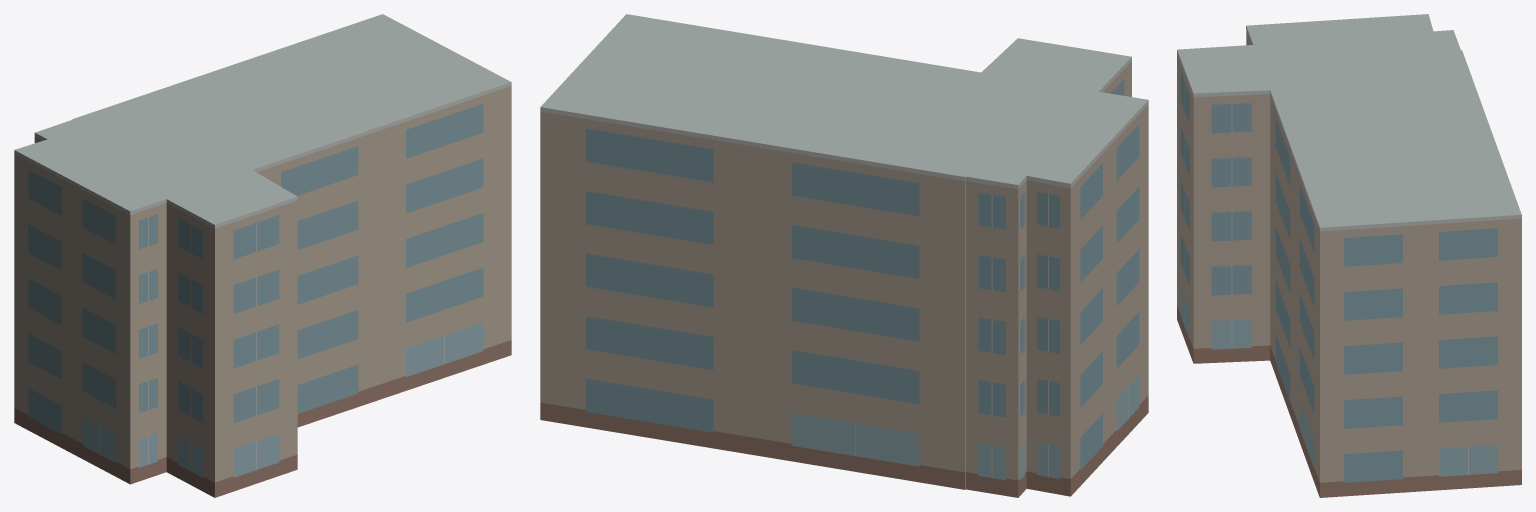
The model's file is survey-upis-32635014.glb.
The picture shows the model from 3 angles, left to right: view 1: azimuth 30°, elevation 25°; view 2: azimuth 150°, elevation 25°; view 3: azimuth 270°, elevation 25°; orthographic projection. The views are drawn at different scales.
Visible parts, largest first — view 1: survey-upis-32635014.tmp; view 2: survey-upis-32635014.tmp; view 3: survey-upis-32635014.tmp.
Boxes of the visible parts, x1=… form: survey-upis-32635014.tmp: x1=14, y1=14, x2=511, y2=497; survey-upis-32635014.tmp: x1=540, y1=14, x2=1148, y2=497; survey-upis-32635014.tmp: x1=1177, y1=14, x2=1521, y2=497.
Size of the model in its own units: 29.53 by 17.4 by 20.13.
